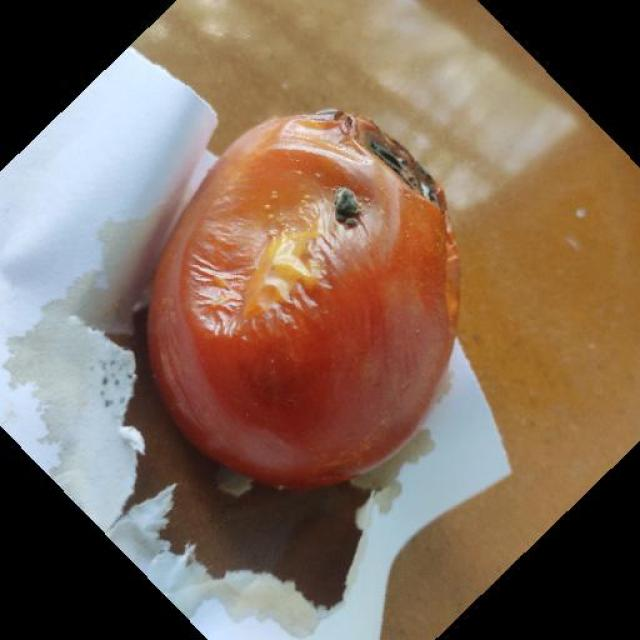Stale_tomato: (173, 97, 488, 486)
